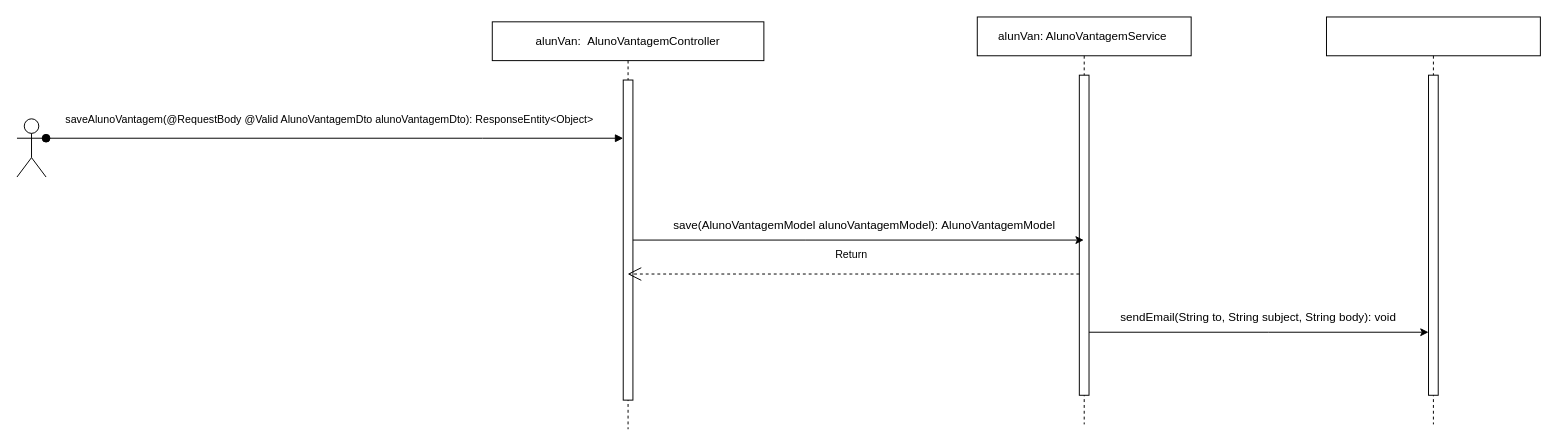
Image size: 1558x446. Some labels were removed from this diagram. Here are the shapes that lost their labels. From the top down, the box of each, then its label:
(16, 118, 46, 177): Aluno
(1326, 16, 1540, 424): alunEmail: EmailService
